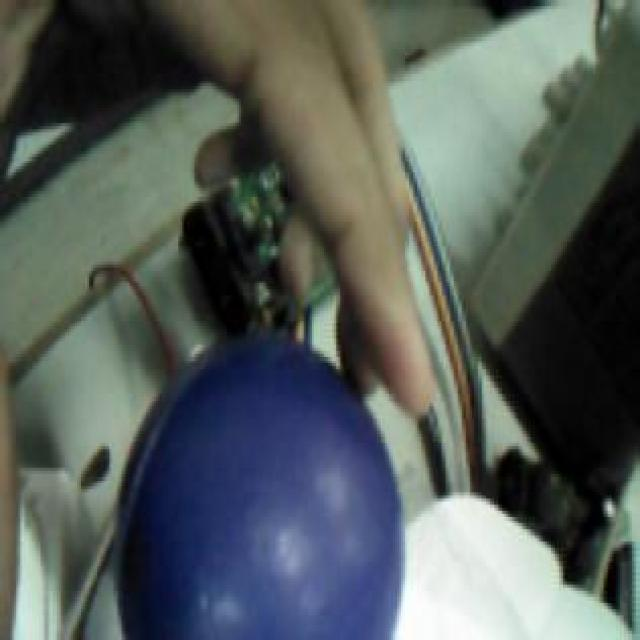BallPurple: (112, 337, 405, 640)
